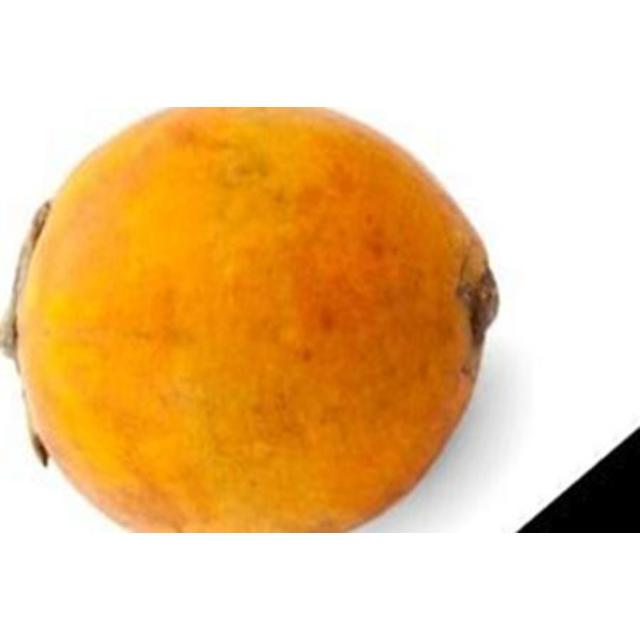good: (11, 107, 501, 532)
